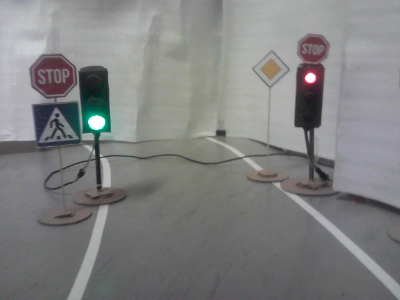crosswalk: (33, 100, 79, 142)
priority_road: (253, 51, 289, 89)
stop: (32, 53, 75, 98), (298, 35, 328, 63)
trafficlight_green: (80, 69, 108, 132)
trafficlight_red: (297, 66, 322, 127)
